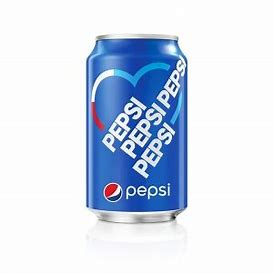Pepsi: (84, 32, 190, 228)
